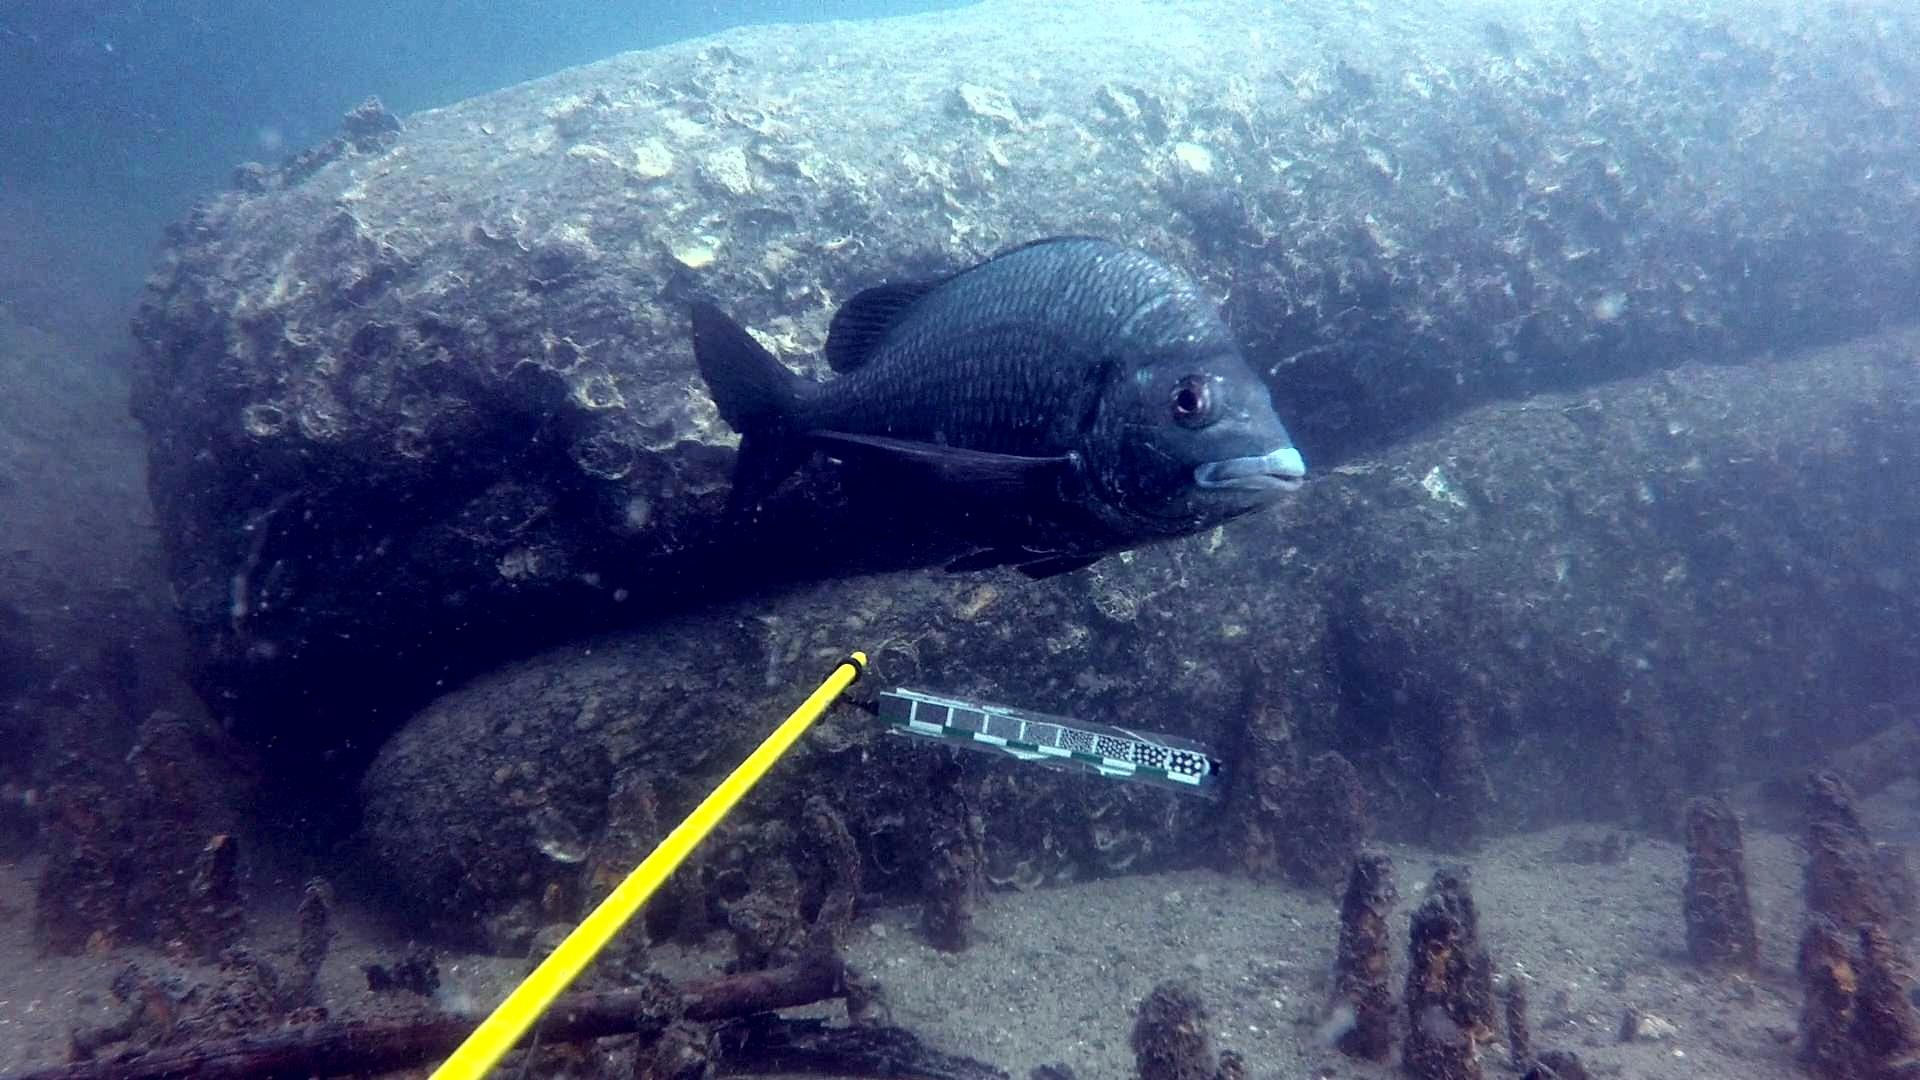acanthopagrus palmaris: (675, 223, 1308, 595)
